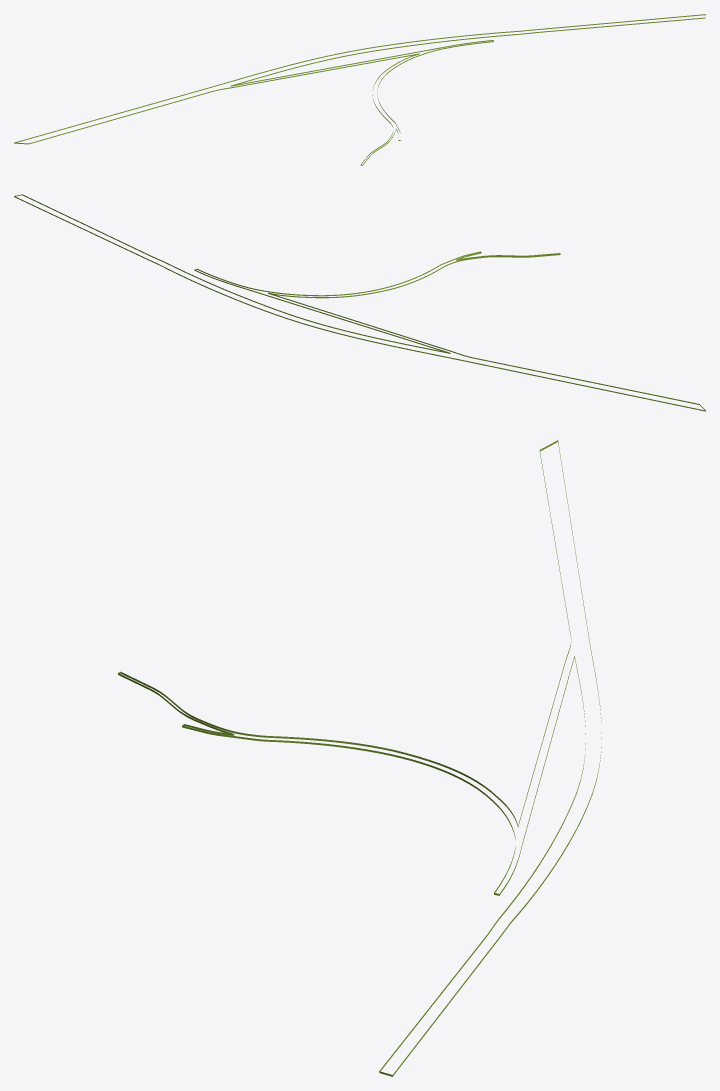
File: zabor_JD.FBX
The picture shows the model from 3 angles, top to bottom: view 1: azimuth 30°, elevation 25°; view 2: azimuth 150°, elevation 25°; view 3: azimuth 270°, elevation 25°; orthographic projection. The views are drawn at different scales.
Visible parts, largest first — view 1: zabor_JD; view 2: zabor_JD; view 3: zabor_JD.
Boxes of the visible parts, <box> form: zabor_JD: <box>14,14,705,165</box>; zabor_JD: <box>14,194,705,411</box>; zabor_JD: <box>118,440,601,1076</box>.
Bounding box in the file's own units: 1412 × 2 × 455.
